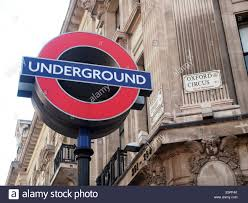London Underground: (16, 31, 149, 132)
